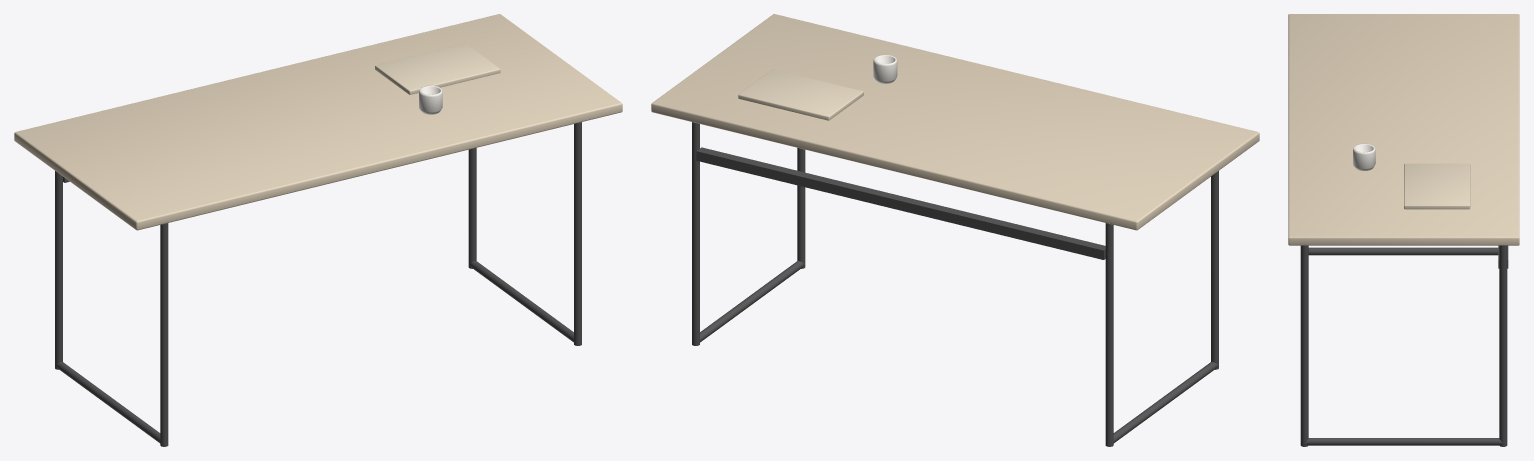
The model's file is mo_desk.glb.
The picture shows the model from 3 angles, left to right: view 1: azimuth 30°, elevation 25°; view 2: azimuth 150°, elevation 25°; view 3: azimuth 270°, elevation 25°; orthographic projection. The views are drawn at different scales.
Visible parts, largest first — view 1: top, tray, post, post.002, post.001, runner, runner.001, post.003, cup; view 2: top, stretcher, tray, post.001, post.003, post, runner, runner.001, post.002, cup; view 3: top, tray, post.002, post.003, runner, runner.001, cup.
Part boxes in pixels (box(x1,y1,x2,y2)): top: box(14, 14, 622, 230); tray: box(375, 43, 500, 94); post: box(160, 223, 168, 446); post.002: box(574, 122, 581, 345); post.001: box(55, 171, 62, 369); runner: box(55, 362, 160, 443); runner.001: box(469, 261, 574, 342); post.003: box(468, 148, 476, 268); cup: box(419, 85, 442, 114); top: box(651, 14, 1259, 230); stretcher: box(696, 147, 1105, 259); tray: box(738, 69, 863, 120); post.001: box(1105, 223, 1113, 446); post.003: box(692, 122, 699, 345); post: box(1211, 171, 1218, 369); runner: box(1113, 362, 1217, 443); runner.001: box(699, 261, 804, 342); post.002: box(797, 148, 805, 268); cup: box(873, 54, 897, 83); top: box(1288, 14, 1519, 245); tray: box(1404, 163, 1470, 209); post.002: box(1300, 245, 1308, 446); post.003: box(1499, 245, 1507, 446); runner: box(1308, 247, 1498, 255); runner.001: box(1304, 438, 1503, 445); cup: box(1353, 143, 1375, 171).
Size of the model in its own units: 1.6 by 0.814 by 0.7.
